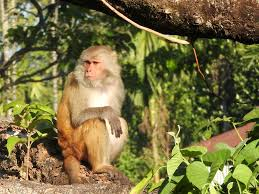monkey: (56, 34, 134, 167)
